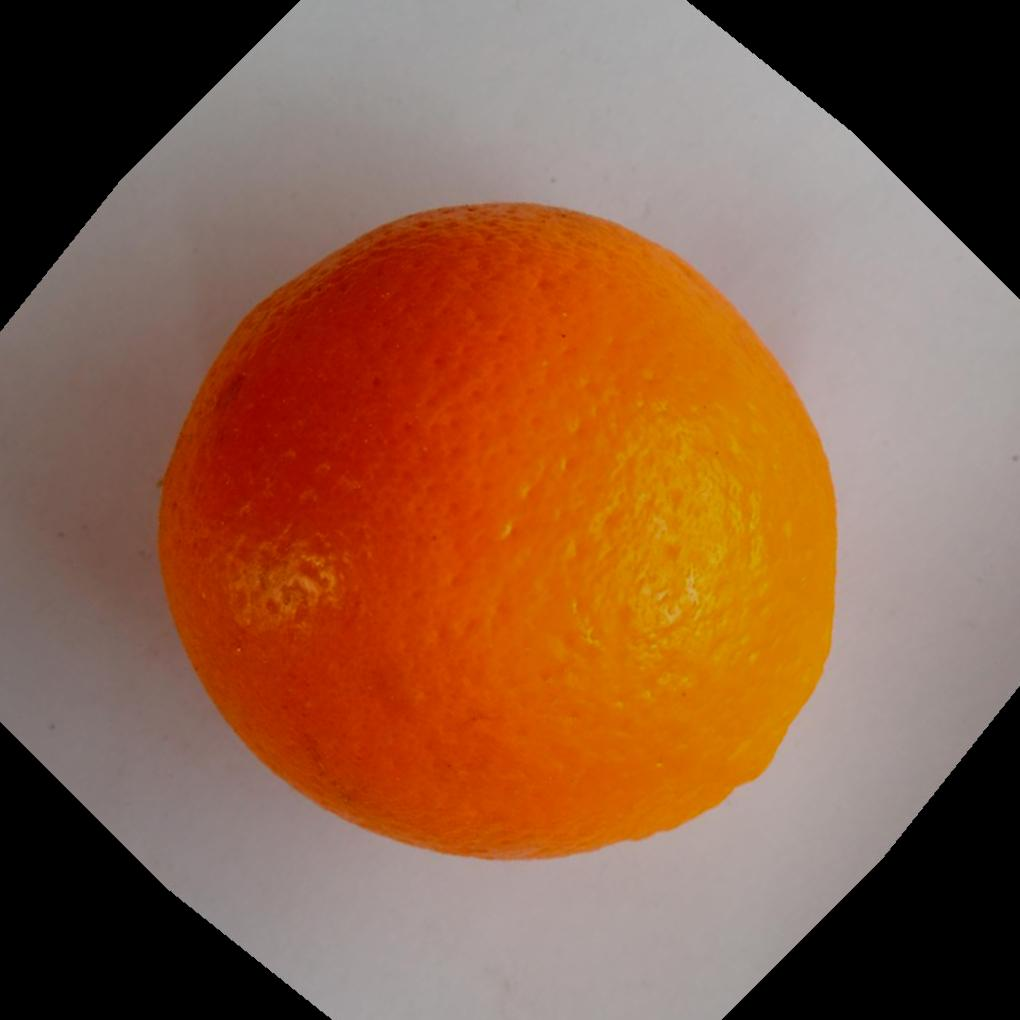FreshGuava: (155, 196, 841, 861)
